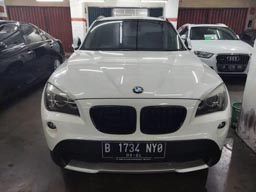plat: (101, 141, 166, 152)
